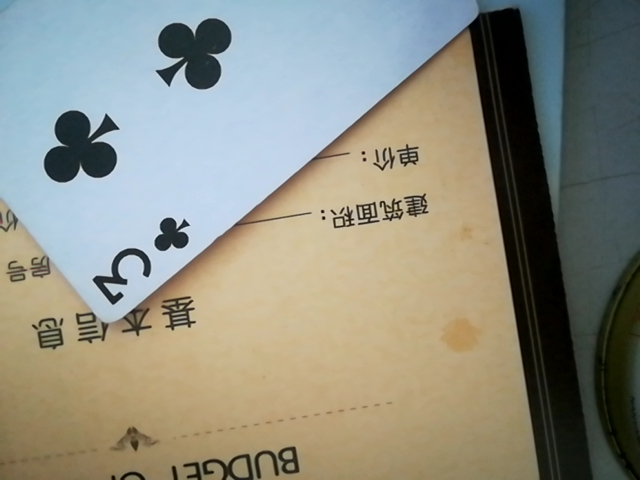mh 3: (0, 3, 504, 322)
